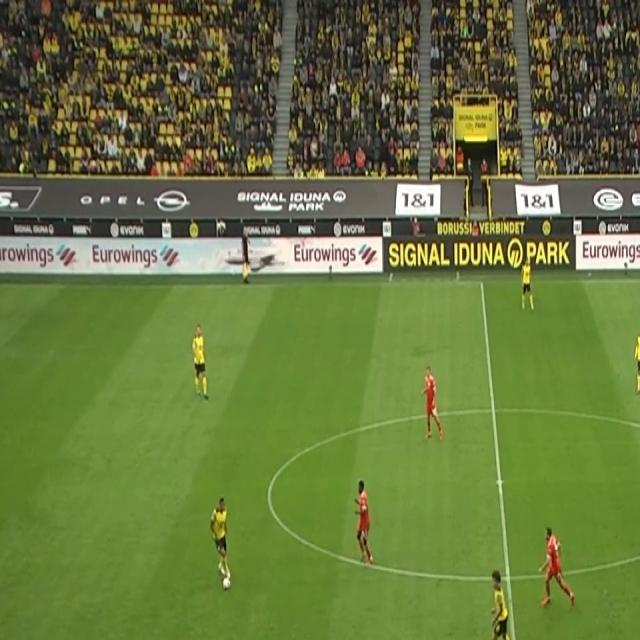ball: (222, 575, 231, 593)
